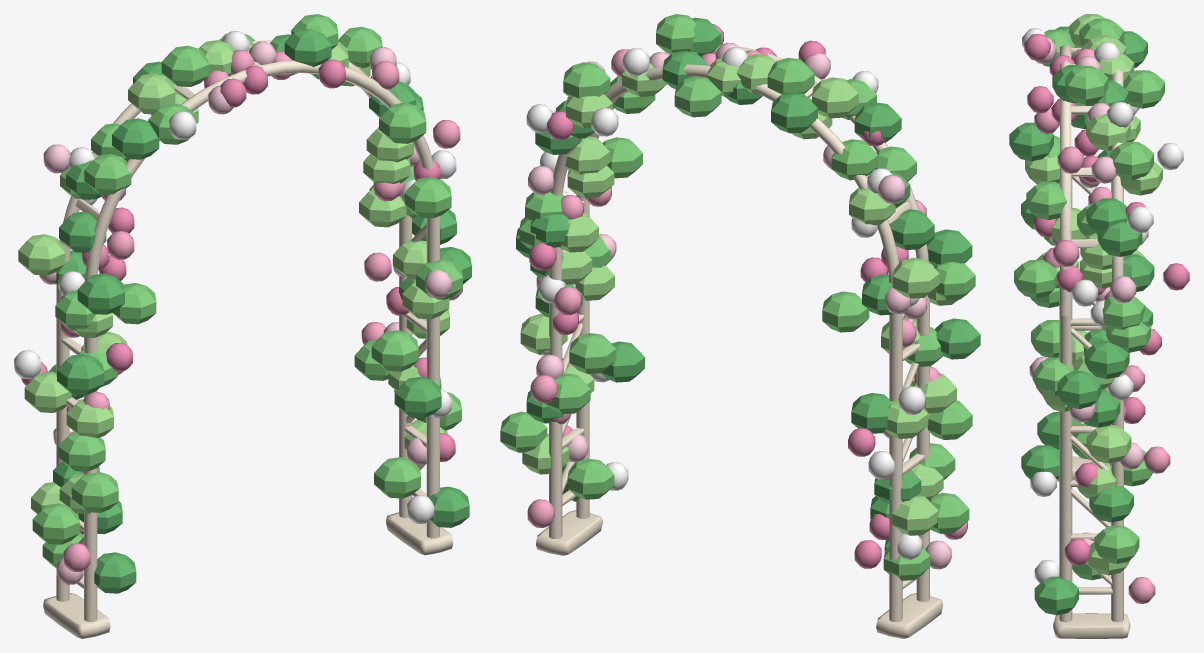
File: flower_arch.glb
The picture shows the model from 3 angles, left to right: view 1: azimuth 30°, elevation 25°; view 2: azimuth 150°, elevation 25°; view 3: azimuth 270°, elevation 25°; orthographic projection. The views are drawn at different scales.
Parts seen in each view (by area): view 1: flower_arch; view 2: flower_arch; view 3: flower_arch.
Boxes of the visible parts, x1=… form: flower_arch: x1=14, y1=14, x2=471, y2=638; flower_arch: x1=500, y1=14, x2=980, y2=638; flower_arch: x1=1009, y1=14, x2=1189, y2=638.
Size of the model in its own units: 2.59 by 3.07 by 0.9738.
Materials: 1 (1 with a texture image).
